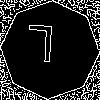L: (25, 25, 55, 72)
